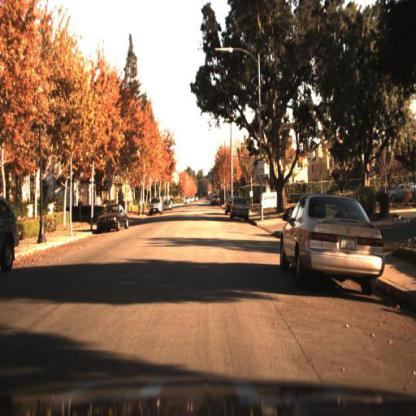car: (278, 189, 387, 291), (1, 192, 20, 278), (95, 205, 131, 233), (231, 196, 250, 220), (149, 198, 163, 219)
